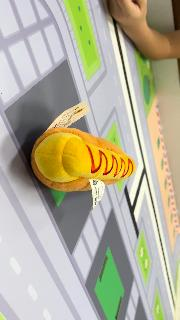hotdog: (30, 127, 136, 193)
